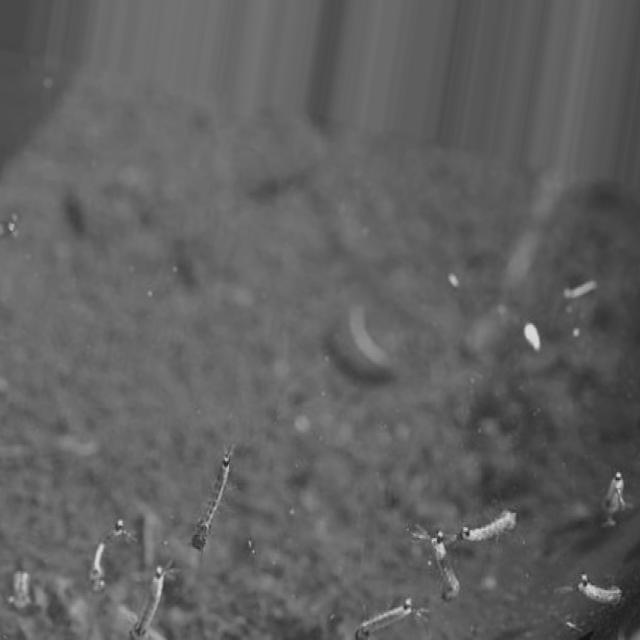larvas: (192, 451, 231, 549), (90, 518, 126, 590), (133, 564, 165, 640), (354, 600, 411, 638), (464, 508, 514, 543), (432, 536, 458, 600), (580, 575, 623, 606), (606, 471, 626, 524), (9, 570, 33, 614), (563, 281, 599, 303)
